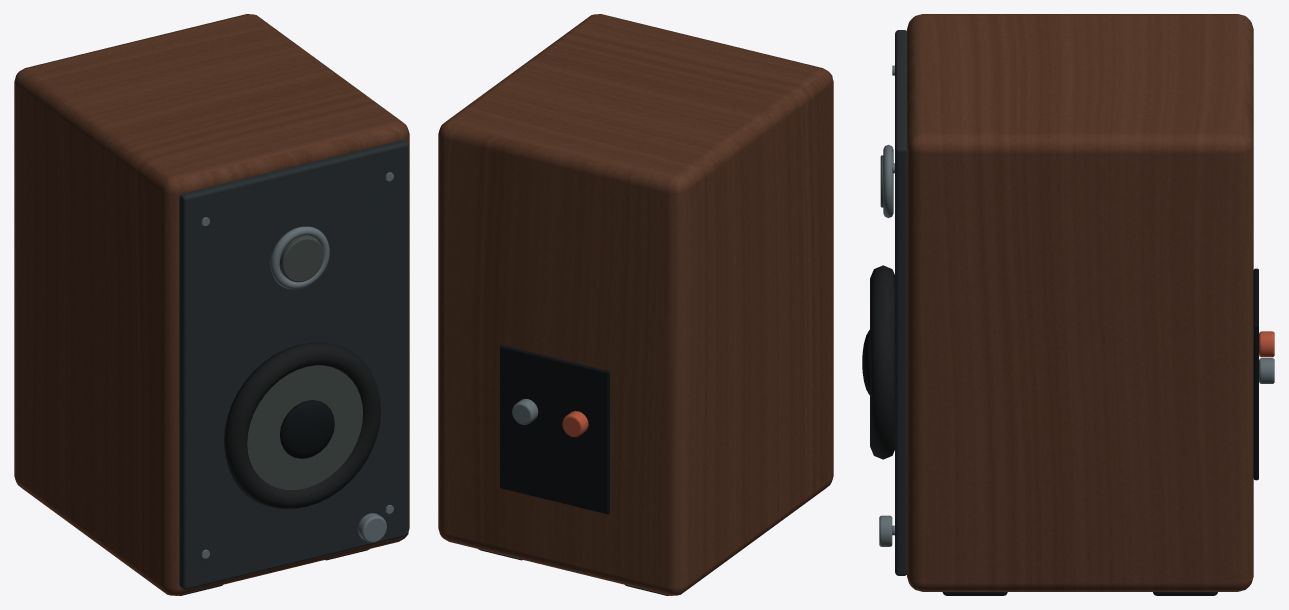
File: speaker_01.glb
3 views of the same model, side by side, from view 1: azimuth 30°, elevation 25°; view 2: azimuth 150°, elevation 25°; view 3: azimuth 270°, elevation 25° (orthographic). The views are drawn at different scales.
Visible parts, largest first — view 1: speaker_01; view 2: speaker_01; view 3: speaker_01.
Boxes of the visible parts, box(x1,y1,x2,y2) form: speaker_01: box(14, 14, 409, 595); speaker_01: box(438, 14, 833, 595); speaker_01: box(862, 14, 1274, 595).
Size of the model in its own units: 0.118 by 0.198 by 0.157.
Materials: 7 (7 with a texture image).
